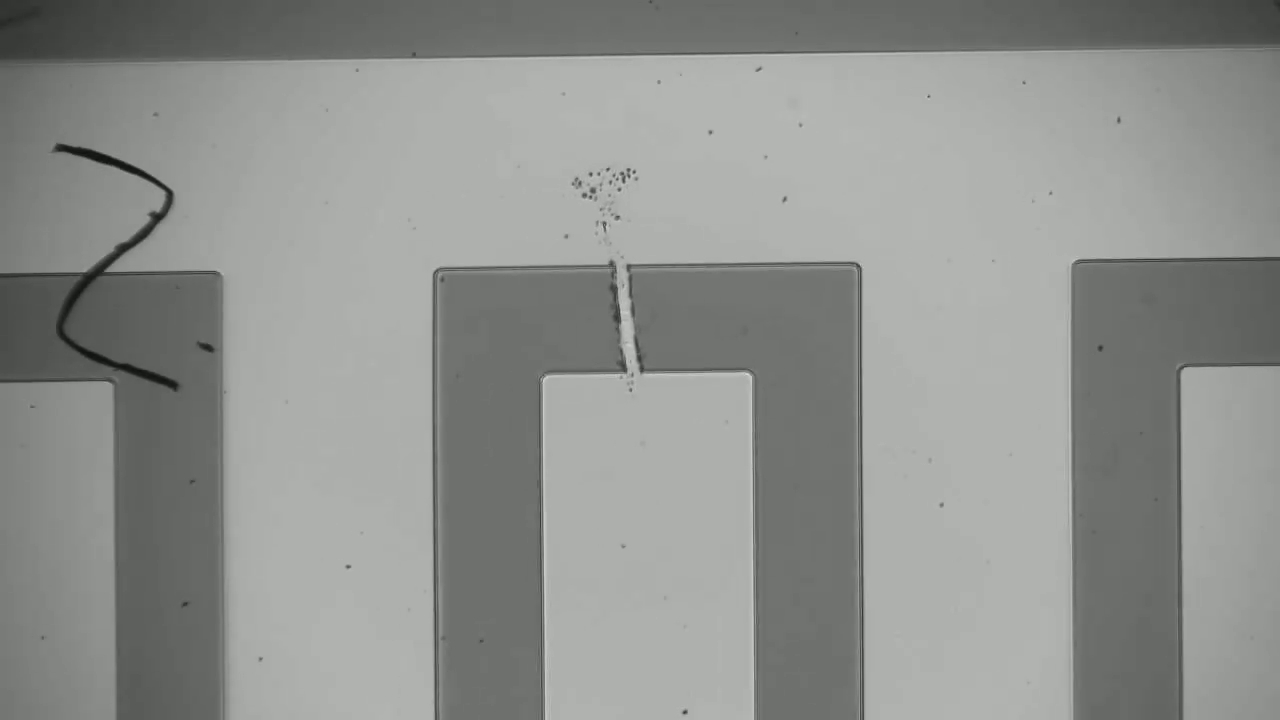Short_circuit: (582, 238, 676, 395)
